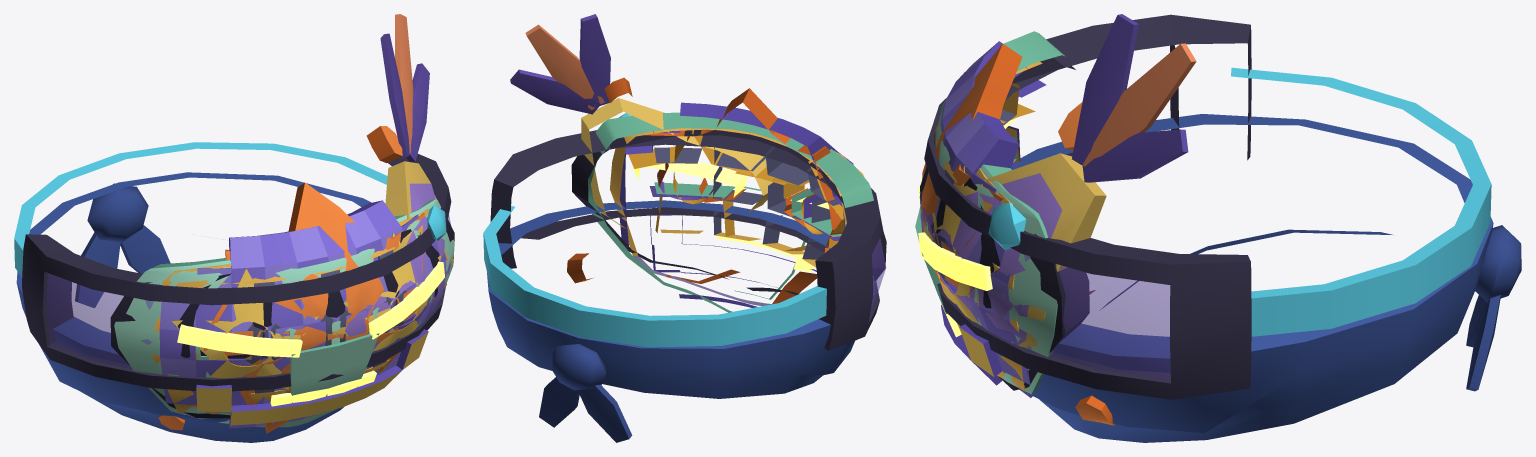
Rendered from cosmetic_masks.glb.
3 views of the same model, side by side, from view 1: azimuth 30°, elevation 25°; view 2: azimuth 150°, elevation 25°; view 3: azimuth 270°, elevation 25° (orthographic). The views are drawn at different scales.
Visible parts, largest first — view 1: Mask_VISOR_MASK, Mask_PIXEL_MASK, Mask_BANDANA, Mask_MINT_MASK, Mask_HALF_MASK, Mask_GLOW_MASK, Mask_SPLASH_MASK, Mask_STAR_MASK, Mask_GRID_MASK; view 2: Mask_VISOR_MASK, Mask_BANDANA, Mask_HALF_MASK, Mask_GRID_MASK, Mask_MINT_MASK, Mask_GLOW_MASK, Mask_SPLASH_MASK, Mask_PIXEL_MASK, Mask_STAR_MASK; view 3: Mask_VISOR_MASK, Mask_BANDANA, Mask_HALF_MASK, Mask_PIXEL_MASK, Mask_GLOW_MASK, Mask_MINT_MASK, Mask_SPLASH_MASK, Mask_GRID_MASK, Mask_STAR_MASK.
Part boxes in pixels (x1,y1,x2,y2): Mask_VISOR_MASK: [14, 142, 451, 391]; Mask_PIXEL_MASK: [159, 200, 446, 428]; Mask_BANDANA: [16, 172, 371, 442]; Mask_MINT_MASK: [114, 199, 454, 427]; Mask_HALF_MASK: [332, 14, 453, 336]; Mask_GLOW_MASK: [110, 220, 454, 418]; Mask_SPLASH_MASK: [158, 126, 424, 433]; Mask_STAR_MASK: [172, 232, 441, 390]; Mask_GRID_MASK: [152, 209, 447, 418]; Mask_VISOR_MASK: [483, 130, 886, 350]; Mask_BANDANA: [487, 200, 874, 442]; Mask_HALF_MASK: [510, 14, 772, 228]; Mask_GRID_MASK: [610, 128, 864, 306]; Mask_MINT_MASK: [588, 112, 886, 312]; Mask_GLOW_MASK: [571, 130, 886, 294]; Mask_SPLASH_MASK: [567, 77, 842, 304]; Mask_PIXEL_MASK: [619, 102, 853, 307]; Mask_STAR_MASK: [628, 130, 844, 250]; Mask_VISOR_MASK: [924, 14, 1491, 399]; Mask_BANDANA: [1011, 114, 1521, 442]; Mask_HALF_MASK: [920, 14, 1196, 347]; Mask_PIXEL_MASK: [919, 41, 1046, 397]; Mask_GLOW_MASK: [918, 58, 1089, 390]; Mask_MINT_MASK: [915, 31, 1065, 394]; Mask_SPLASH_MASK: [921, 43, 1114, 425]; Mask_GRID_MASK: [920, 61, 1042, 394]; Mask_STAR_MASK: [922, 72, 1035, 323].
Bounding box in the file's own units: 0.3894 × 0.3406 × 0.3911.
